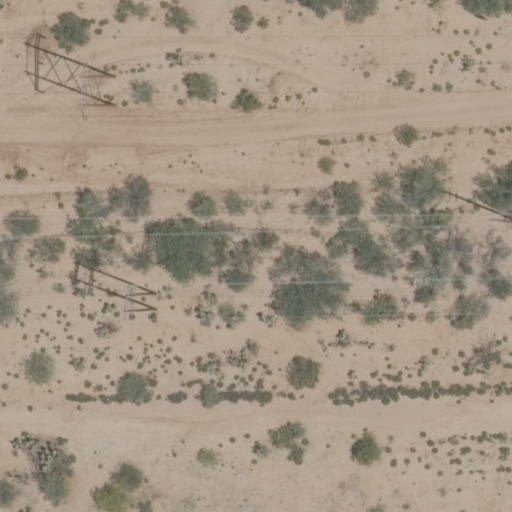DT: (70, 278, 158, 315), (72, 261, 157, 297), (443, 190, 512, 222)
TT: (21, 43, 116, 108)
